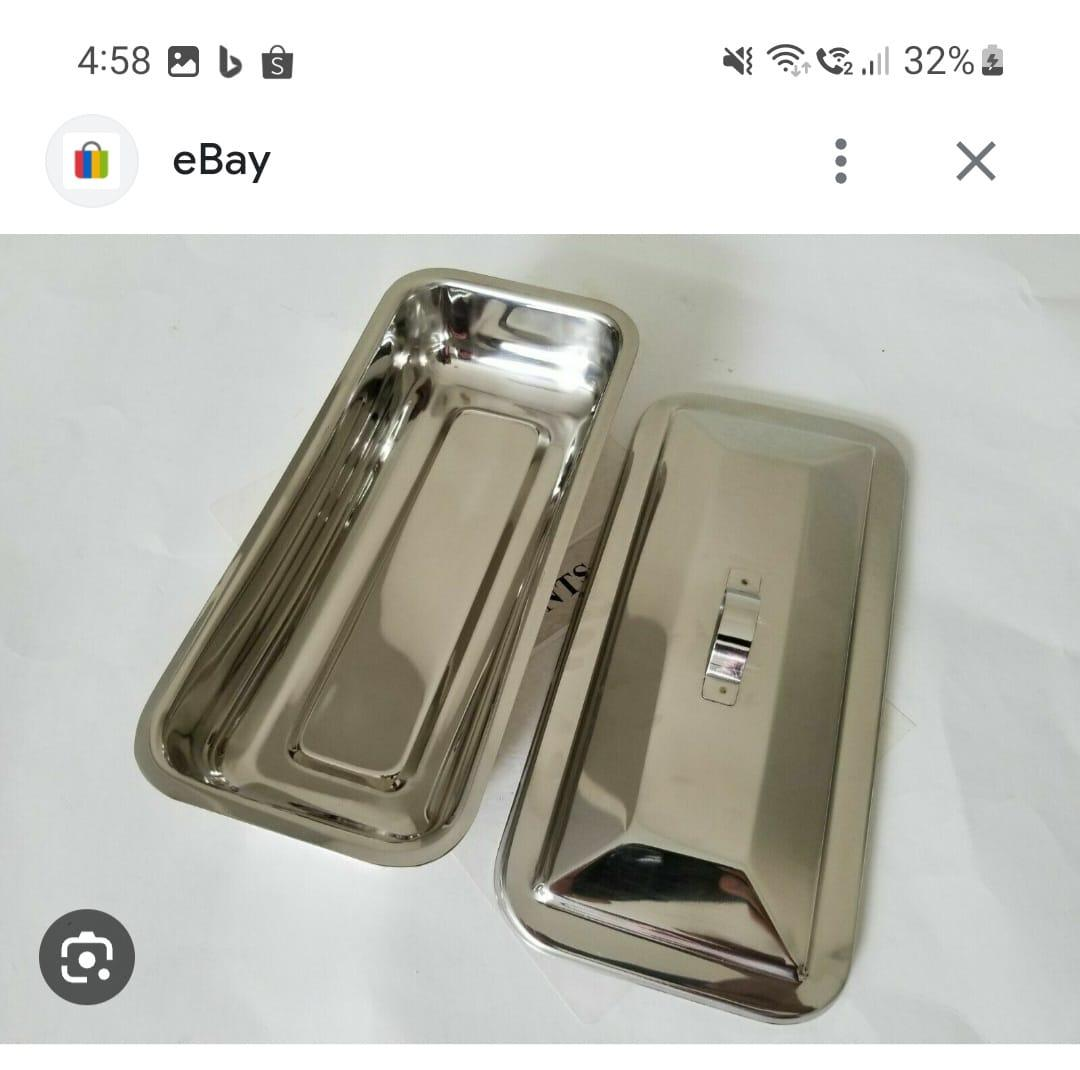Catheter Tray: (120, 252, 643, 882)
